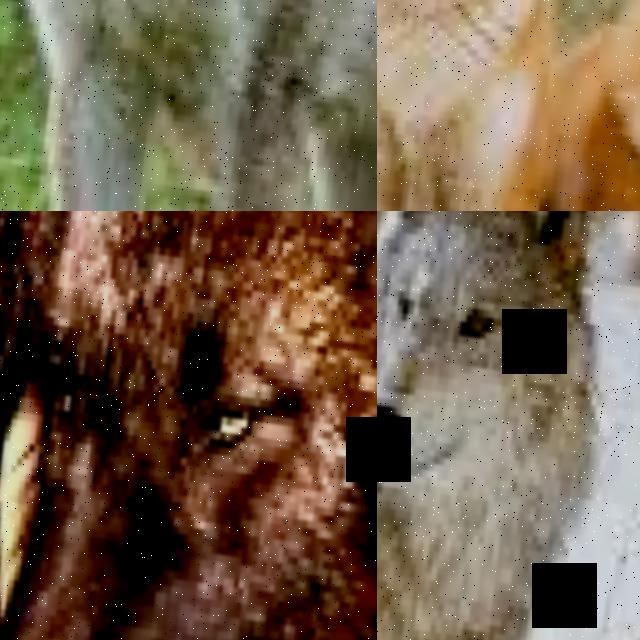dog: (377, 0, 640, 211), (509, 0, 640, 211)
wolf: (0, 211, 377, 640), (377, 211, 632, 640), (0, 0, 377, 211), (0, 211, 139, 640), (377, 211, 470, 318)
